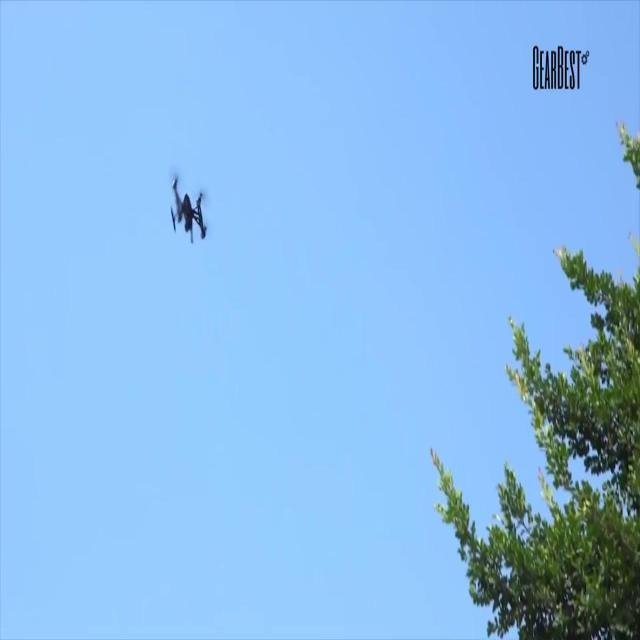drone: (167, 167, 209, 251)
